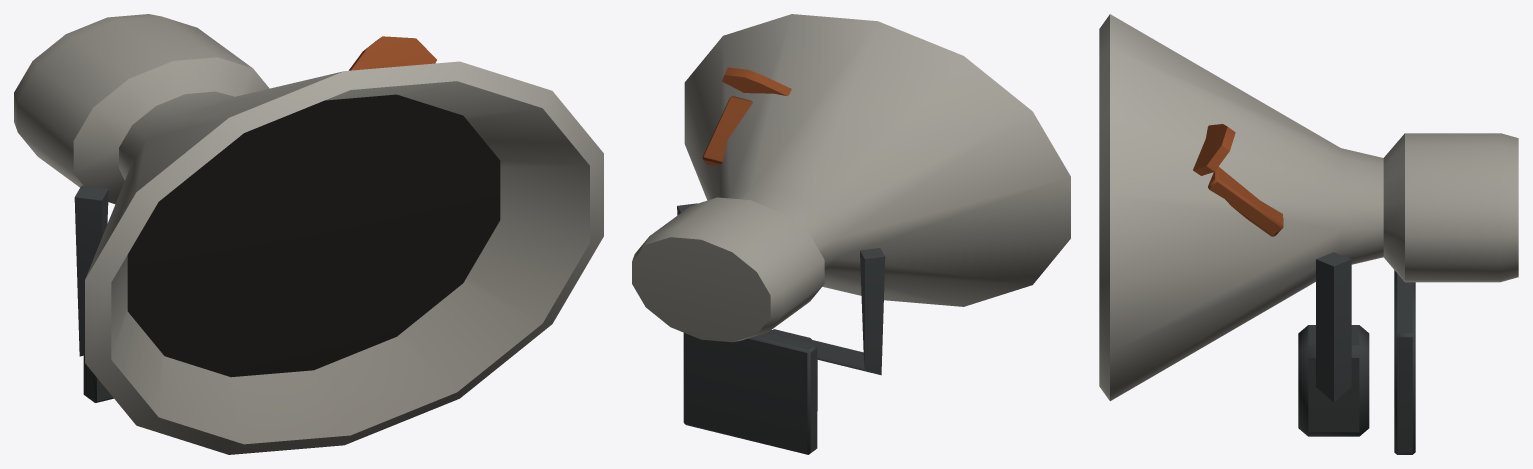
Rendered from 12_haut_parleur.fbx.
3 views of the same model, side by side, from view 1: azimuth 30°, elevation 25°; view 2: azimuth 150°, elevation 25°; view 3: azimuth 270°, elevation 25° (orthographic). The views are drawn at different scales.
Visible parts, largest first — view 1: HautParleur; view 2: HautParleur; view 3: HautParleur.
Part boxes in pixels (box(x1,y1,x2,y2)): HautParleur: box(14, 14, 603, 454); HautParleur: box(632, 14, 1070, 454); HautParleur: box(1099, 14, 1518, 454).
Bounding box in the file's own units: 0.448 × 0.364 × 0.364.
Materials: 1 (1 with a texture image).
